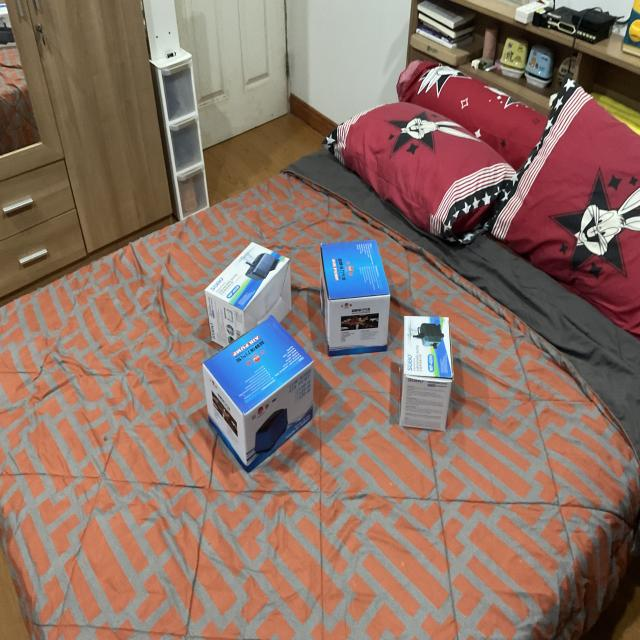SOBO_WP_4200: (193, 228, 297, 361), (393, 300, 459, 448)
YAMANO_LPP_20: (188, 321, 314, 478), (313, 230, 395, 364)
